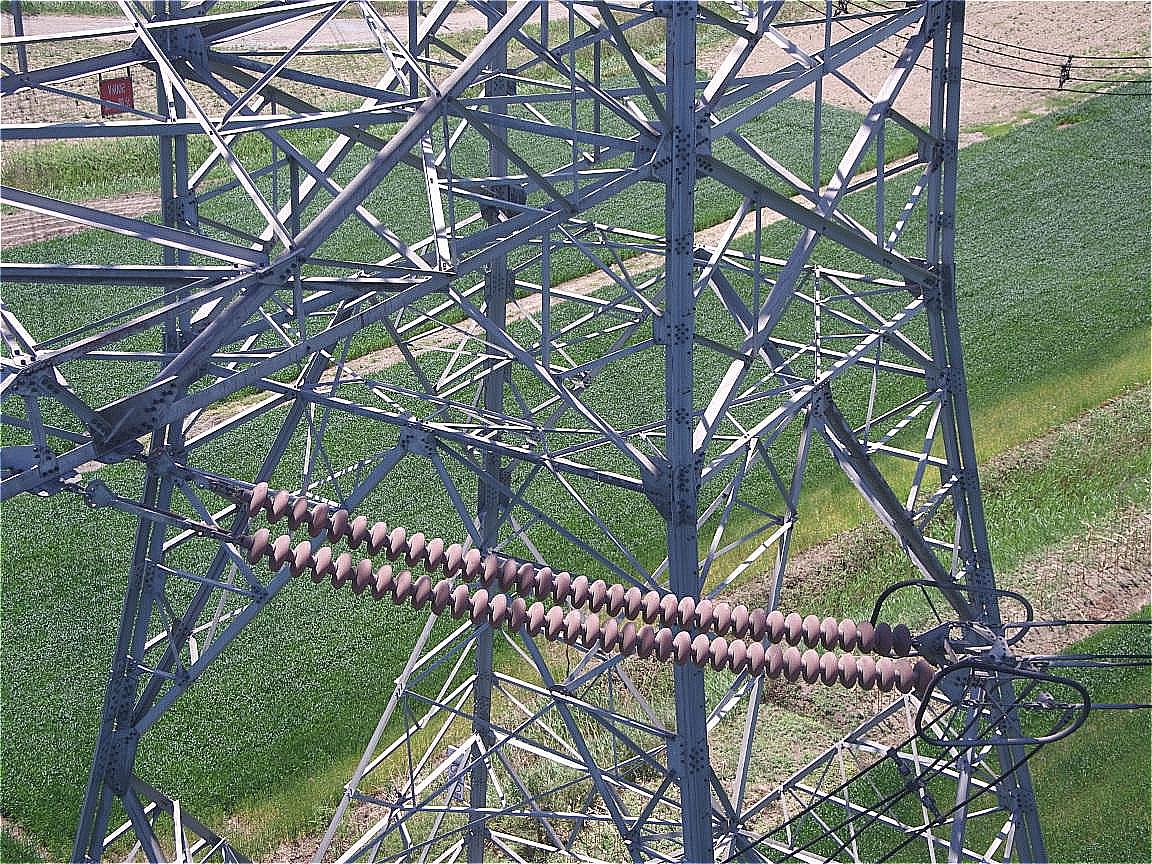insultor1: (249, 479, 934, 695)
